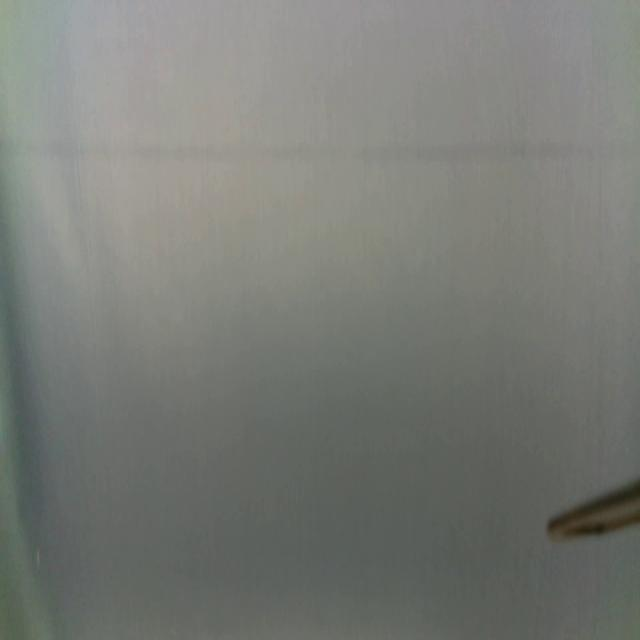color bleeding: (0, 129, 640, 177)
